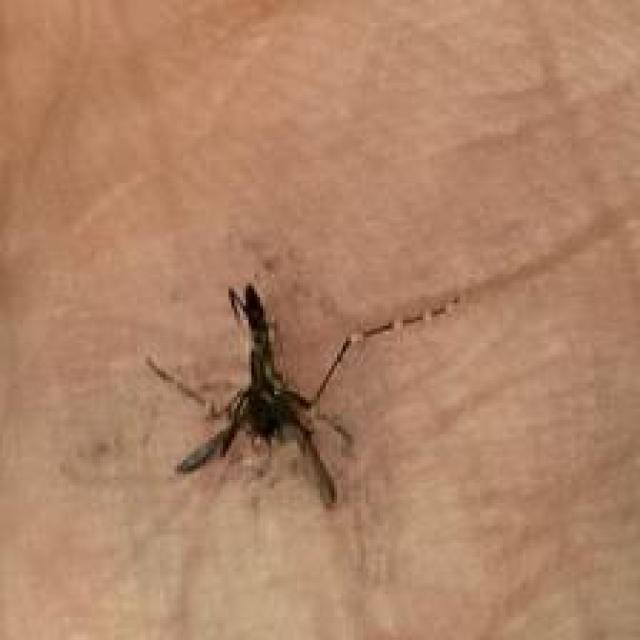Aedes albopictus: (146, 280, 360, 509)
